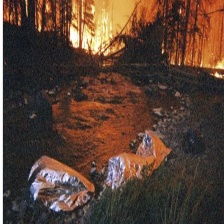fire: (66, 26, 111, 55), (206, 56, 224, 77)
